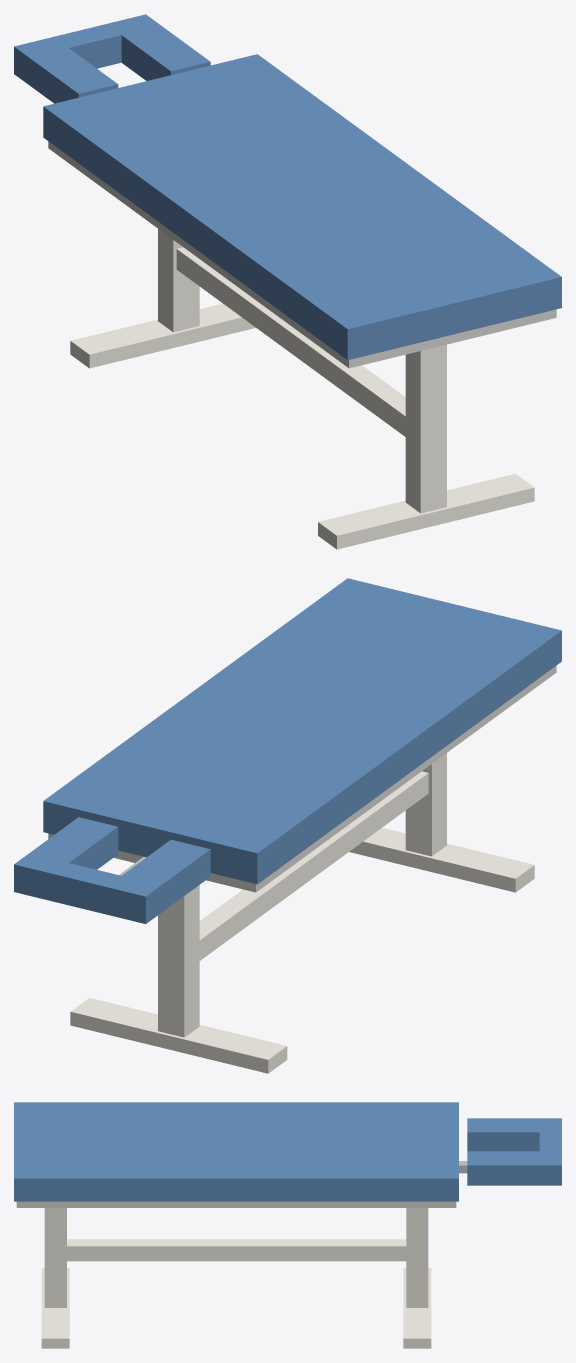
The model's file is treatment_table.fbx.
3 renders of one model, top to bottom at view 1: azimuth 30°, elevation 25°; view 2: azimuth 150°, elevation 25°; view 3: azimuth 270°, elevation 25°, orthographic. The views are drawn at different scales.
Visible parts, largest first — view 1: treatment_table; view 2: treatment_table; view 3: treatment_table.
Part boxes in pixels (<box>): treatment_table: <box>14,14,561,549</box>; treatment_table: <box>14,578,561,1073</box>; treatment_table: <box>14,1102,561,1348</box>.
Bounding box in the file's own units: 65 × 68.5 × 197.
